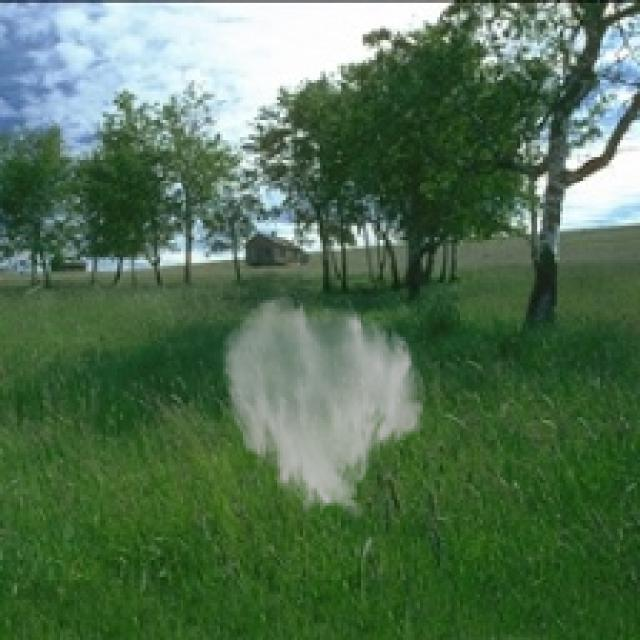Smoke: (221, 292, 428, 522)
